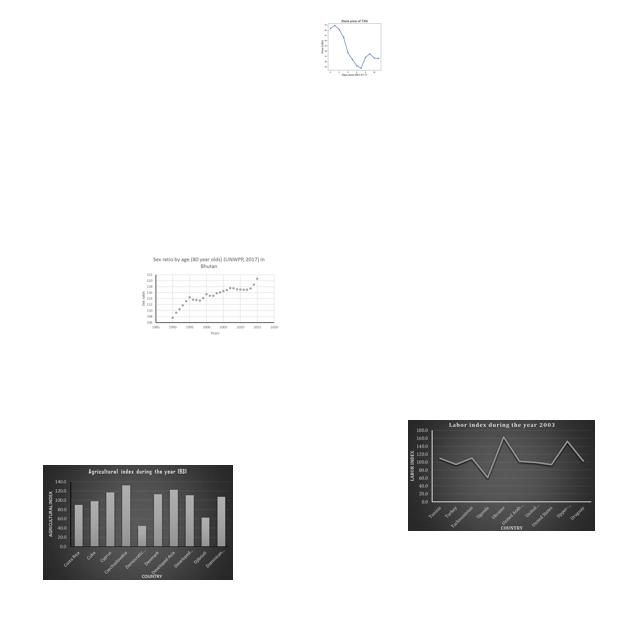Graph: (43, 465, 233, 580), (408, 420, 595, 531), (138, 255, 280, 339), (313, 16, 394, 77)
